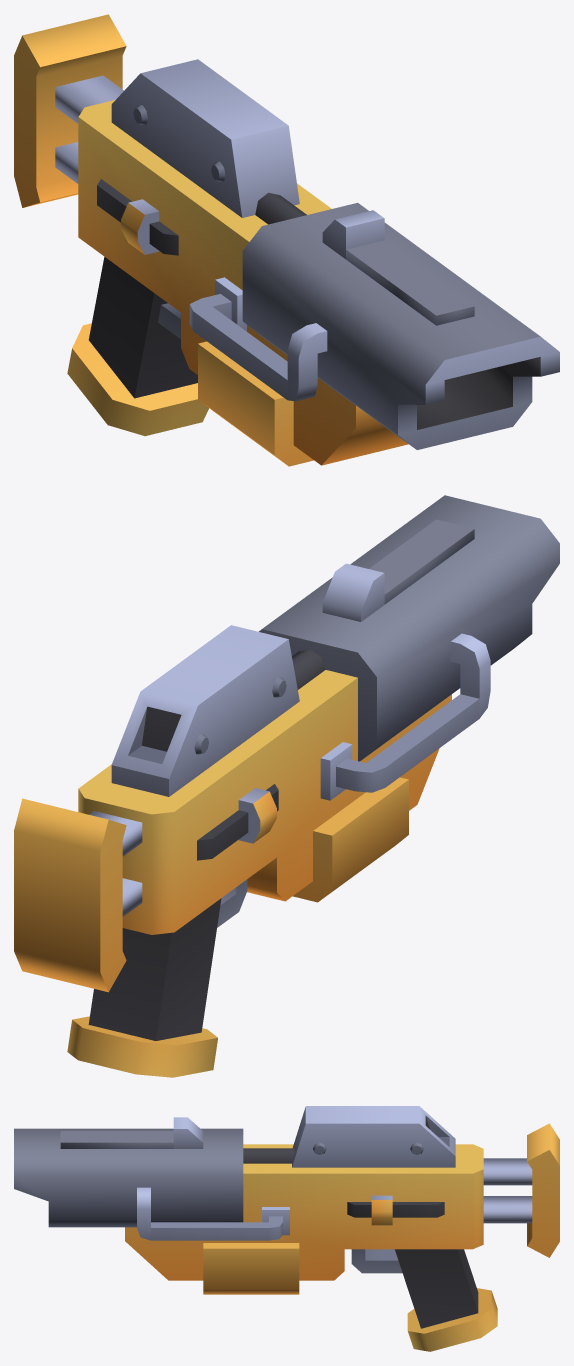
Rendered from weapon_shotgun.glb.
The picture shows the model from 3 angles, top to bottom: view 1: azimuth 30°, elevation 25°; view 2: azimuth 150°, elevation 25°; view 3: azimuth 270°, elevation 25°; orthographic projection. The views are drawn at different scales.
Visible parts, largest first — view 1: blaster-g; view 2: blaster-g; view 3: blaster-g.
Boxes of the visible parts, x1,y1,x2,y2 form: blaster-g: [14, 14, 559, 466]; blaster-g: [14, 495, 559, 1077]; blaster-g: [14, 1106, 559, 1351].
Size of the model in its own units: 9.67 by 17.31 by 38.
